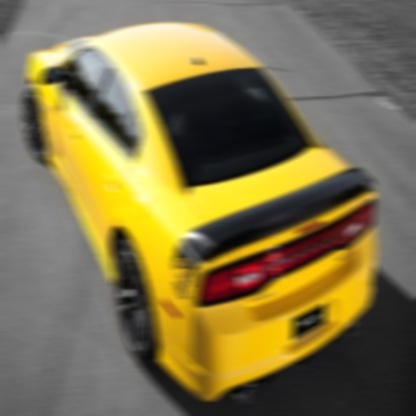Vehicle: (21, 19, 380, 406)
